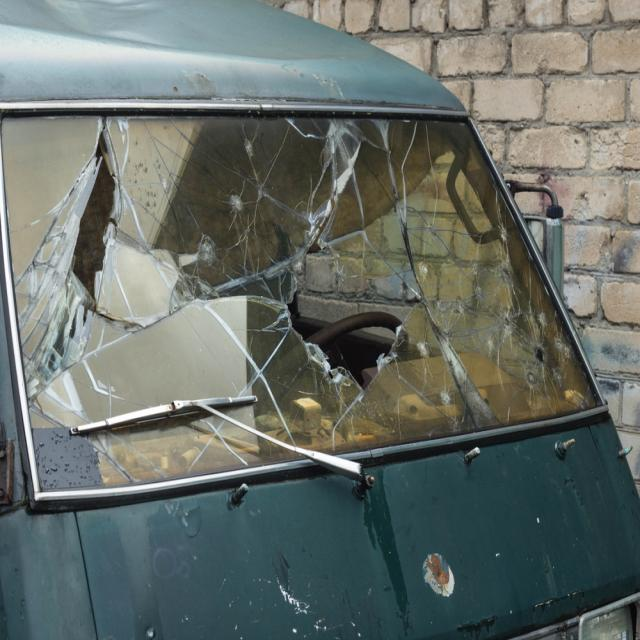Fissure: (0, 115, 424, 395), (437, 185, 598, 430), (60, 405, 374, 458)
